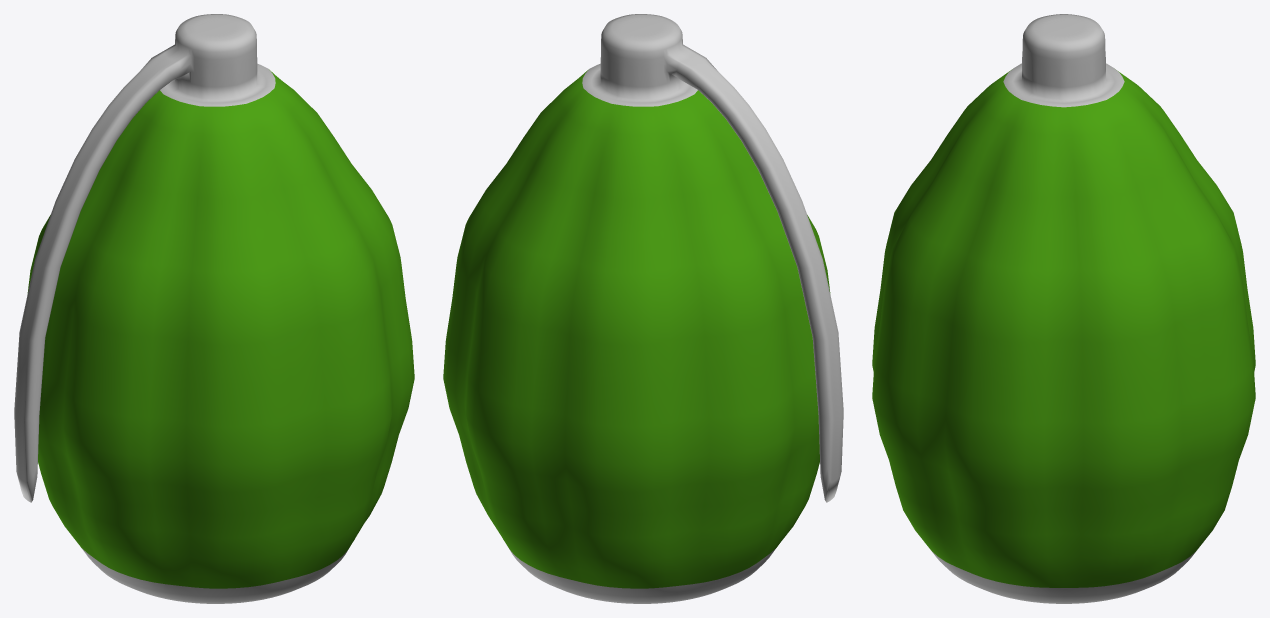
Rendered from HEGrenade.fbx.
3 renders of one model, left to right at view 1: azimuth 30°, elevation 25°; view 2: azimuth 150°, elevation 25°; view 3: azimuth 270°, elevation 25°, orthographic.
Parts seen in each view (by area): view 1: HE; view 2: HE; view 3: HE.
Part boxes in pixels (box(x1,y1,x2,y2)): HE: box(14, 14, 414, 603); HE: box(443, 14, 843, 603); HE: box(872, 14, 1255, 603).
Size of the model in its own units: 39.6 by 57.1 by 36.32.
